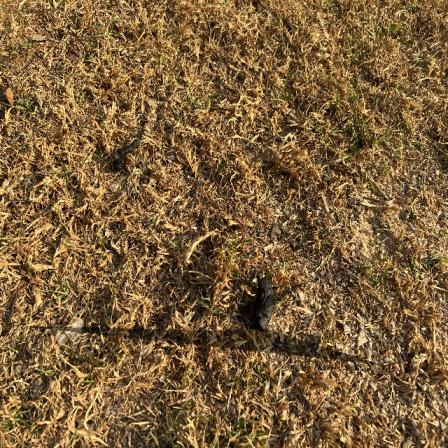dog-poop: (253, 274, 276, 332), (111, 140, 136, 171)
